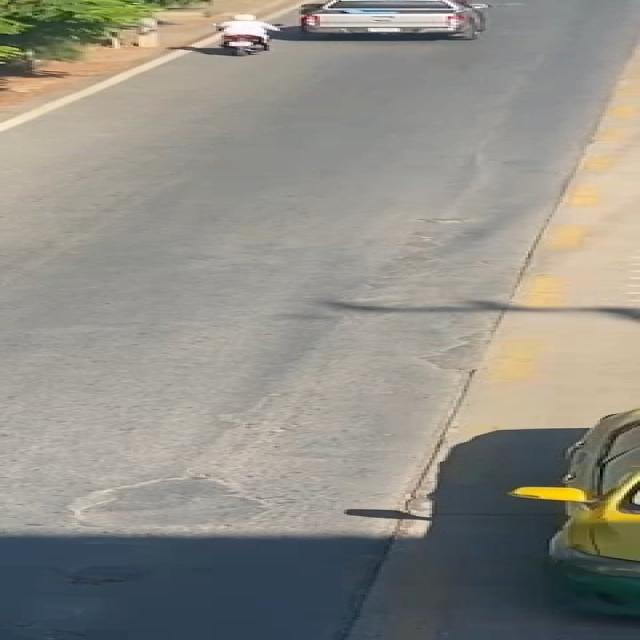car: (279, 0, 525, 49)
